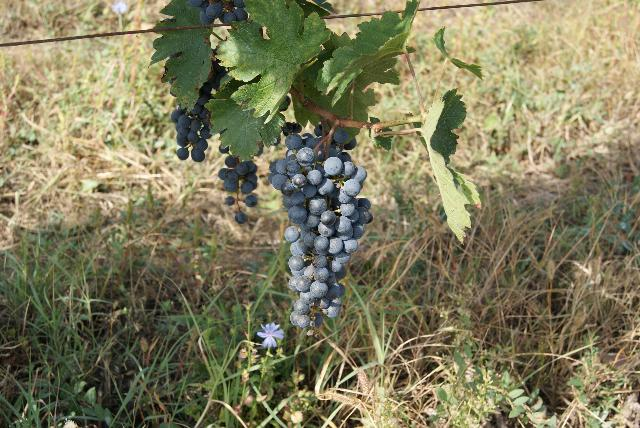grapes: (269, 130, 372, 336)
